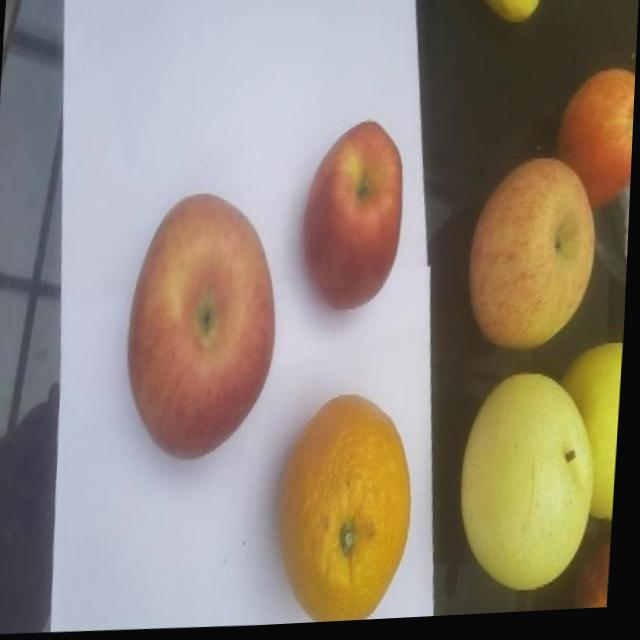Apple: (121, 191, 285, 470), (467, 160, 603, 358), (293, 118, 413, 322), (554, 69, 637, 223)
Banana: (474, 0, 544, 27)
Orange: (275, 395, 424, 628)
